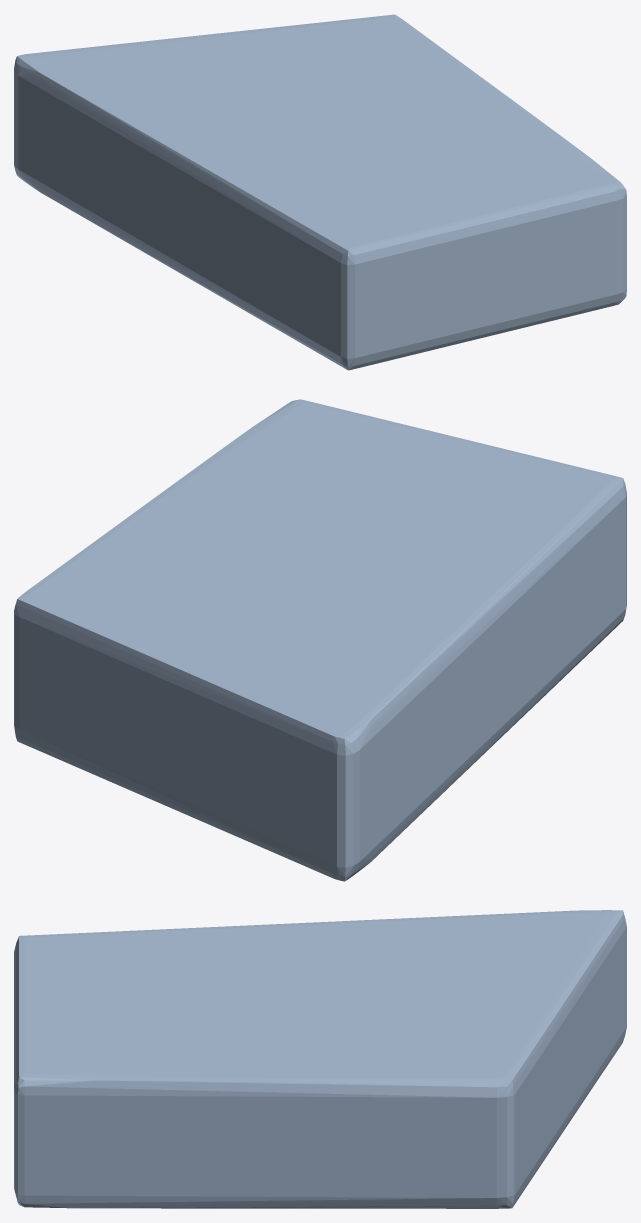
The model's file is left_knee_link_part_6.obj.
The picture shows the model from 3 angles, top to bottom: view 1: azimuth 30°, elevation 25°; view 2: azimuth 150°, elevation 25°; view 3: azimuth 270°, elevation 25°; orthographic projection. The views are drawn at different scales.
Size of the model in its own units: 0.0666 by 0.0226 by 0.0977.
